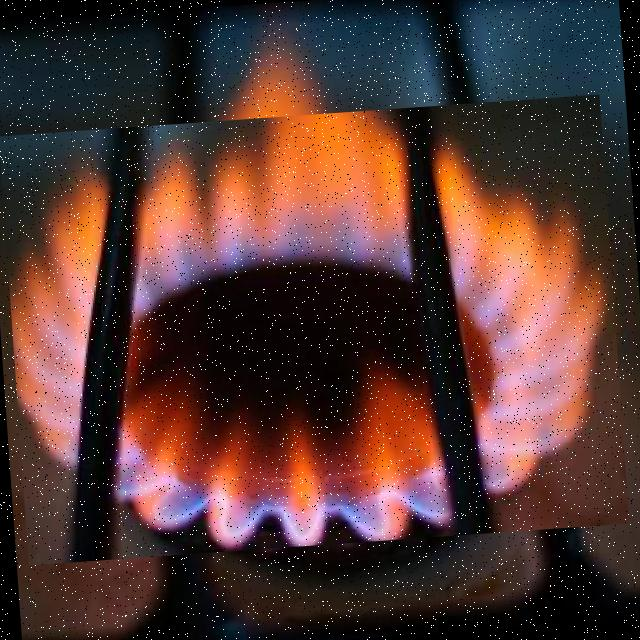fire: (0, 94, 629, 565)
